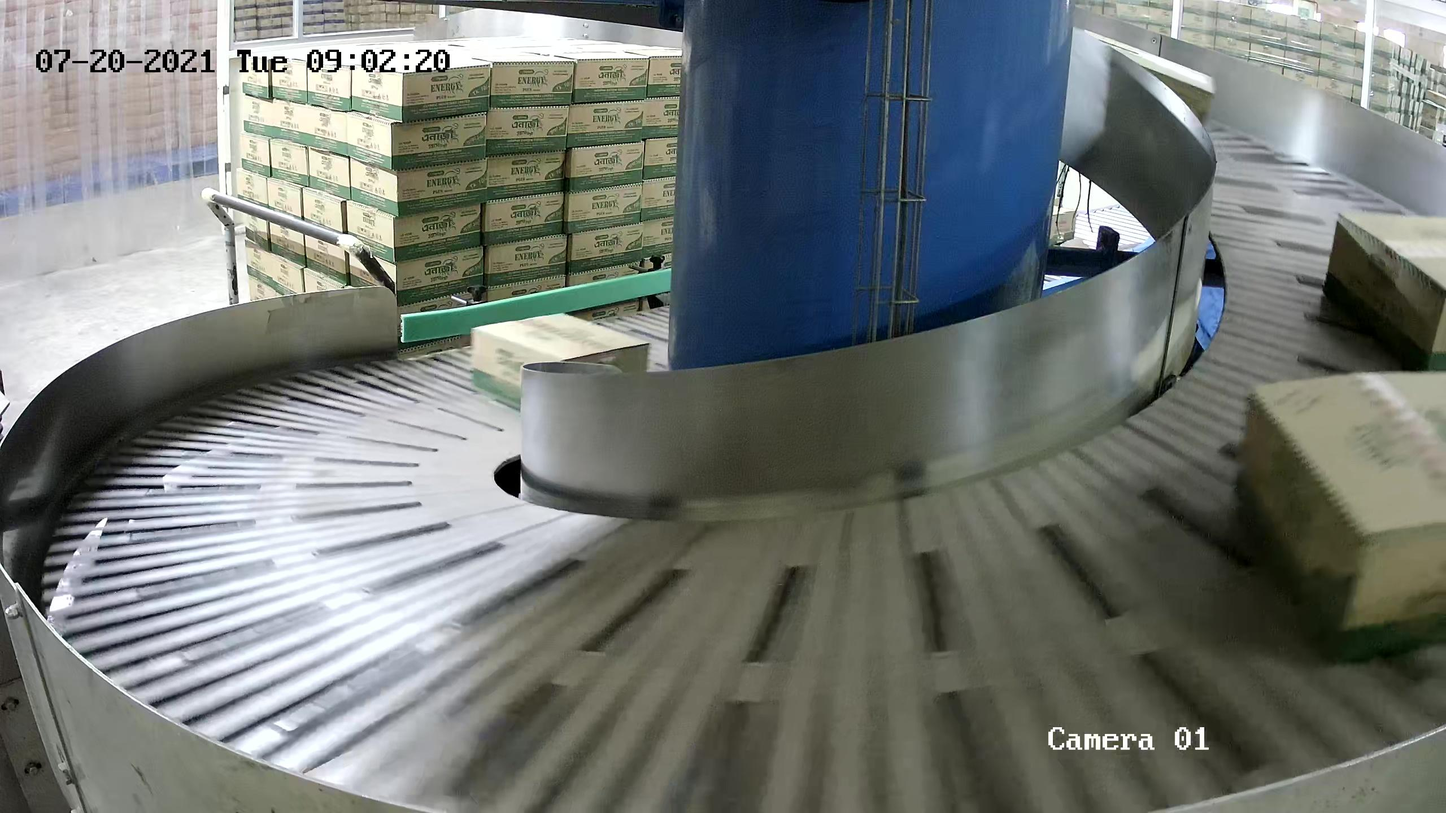Box: (1234, 372, 1446, 661), (1326, 204, 1446, 381), (467, 312, 648, 428)
